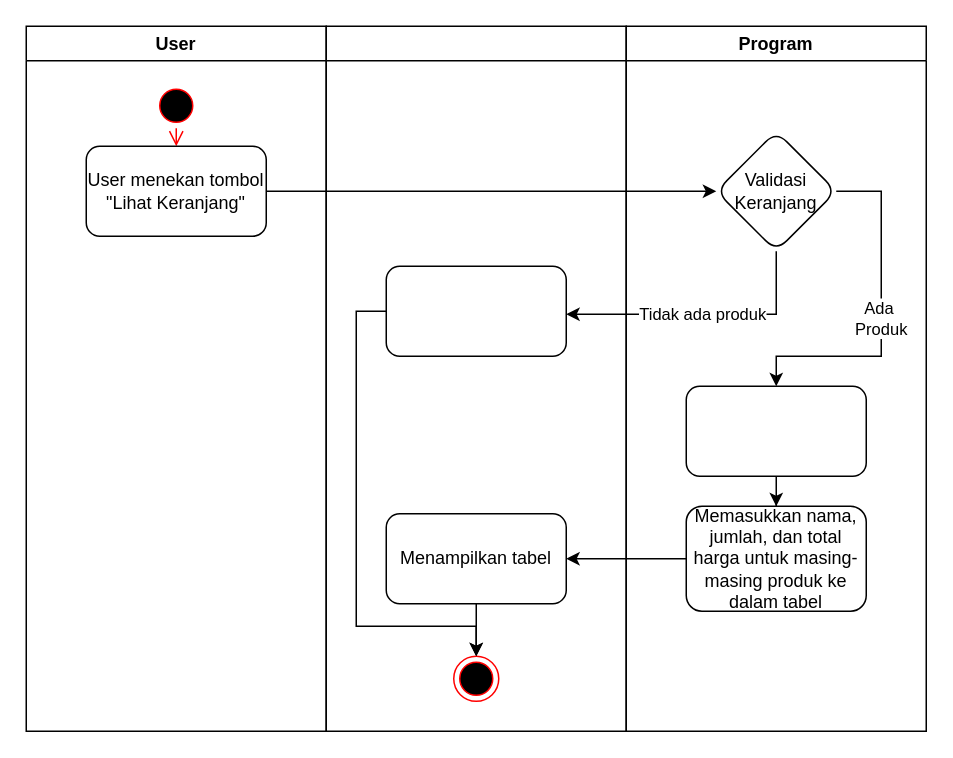
Image size: 953x758. Some labels were removed from this diagram. Each missing label, with the box of its shape:
Interface: (325, 25, 626, 731)
Menampilkan pesan bahwa tidak ada produk dalam keranjang: (385, 265, 566, 356)
Mengambil daftar produk dalam keranjang: (685, 385, 866, 476)
